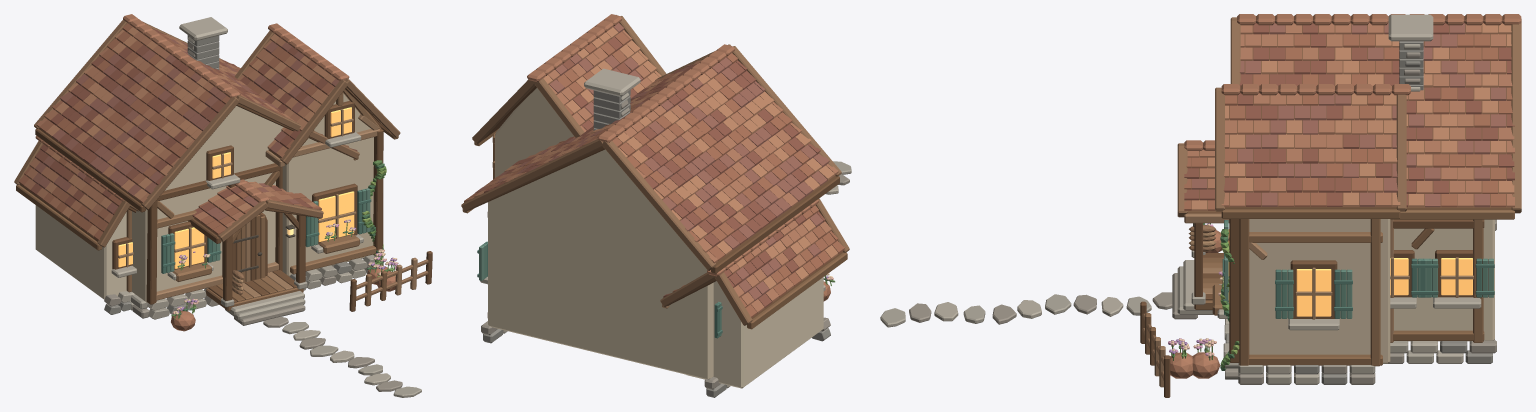
File: hewn_eaves_cottage.glb
3 renders of one model, left to right at view 1: azimuth 30°, elevation 25°; view 2: azimuth 150°, elevation 25°; view 3: azimuth 270°, elevation 25°, orthographic. The views are drawn at different scales.
Parts seen in each view (by area): view 1: Oiled oak 01, Fired clay 03, Oak end grain 01, Warm limewash 01, Fired clay 02, Fired clay 04, Fired clay 01, Fired clay 05, Warm limewash 02, Warm slate 03, Warm limewash 03, Oiled oak 03 (+10 smaller); view 2: Warm limewash 01, Fired clay 03, Fired clay 04, Fired clay 02, Oak end grain 01, Fired clay 01, Fired clay 05, Warm limewash 03, Warm limewash 02, Oiled oak 01, Warm slate 04, Warm slate 03 (+2 smaller); view 3: Fired clay 03, Warm limewash 02, Fired clay 01, Oiled oak 01, Fired clay 02, Fired clay 04, Fired clay 05, Oiled oak 02, Oak end grain 01, Warm slate 03, Oiled oak 03, Warm limewash 01 (+9 smaller).
Boxes of the visible parts, x1,y1,x2,y2 form: Oiled oak 01: (19, 87, 432, 311); Fired clay 03: (24, 14, 395, 331); Oak end grain 01: (14, 20, 428, 300); Warm limewash 01: (132, 106, 283, 302); Fired clay 02: (18, 23, 333, 240); Fired clay 04: (32, 39, 357, 221); Fired clay 01: (30, 29, 327, 216); Fired clay 05: (45, 27, 348, 236); Warm limewash 02: (282, 93, 373, 276); Warm slate 03: (111, 17, 390, 385); Warm limewash 03: (35, 205, 126, 299); Oiled oak 03: (126, 89, 381, 306); Warm limewash 01: (488, 149, 713, 379); Fired clay 03: (464, 14, 838, 313); Fired clay 04: (475, 23, 829, 300); Fired clay 02: (469, 31, 845, 317); Oak end grain 01: (461, 15, 849, 325); Fired clay 01: (484, 37, 825, 307); Fired clay 05: (474, 27, 838, 289); Warm limewash 03: (686, 277, 823, 388); Warm limewash 02: (495, 88, 573, 177); Oiled oak 01: (469, 85, 843, 318); Warm slate 04: (483, 90, 830, 397); Warm slate 03: (480, 68, 838, 388); Fired clay 03: (1170, 14, 1521, 378); Warm limewash 02: (1249, 219, 1390, 363); Fired clay 01: (1184, 23, 1514, 207); Oiled oak 01: (1140, 23, 1511, 397); Fired clay 02: (1184, 34, 1512, 210); Fired clay 04: (1192, 23, 1506, 207); Fired clay 05: (1192, 23, 1514, 210); Oiled oak 02: (1150, 209, 1484, 365); Oak end grain 01: (1142, 17, 1521, 380); Warm slate 03: (934, 14, 1481, 384); Oiled oak 03: (1145, 210, 1514, 366); Warm limewash 01: (1394, 219, 1494, 341).
Bounding box in the file's own units: 7.82 × 5.79 × 11.51.
